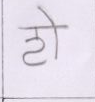o_matra: (47, 10, 62, 58)
